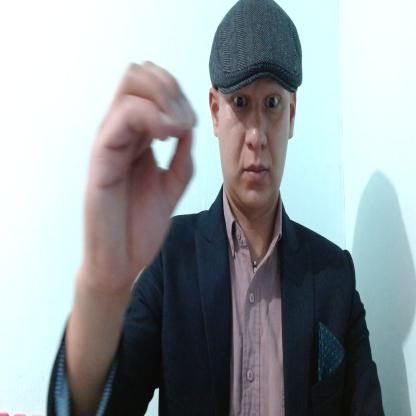O: (81, 58, 201, 278)
